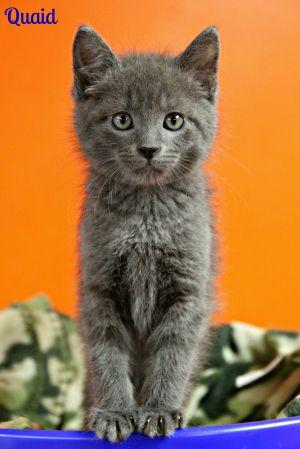rblue: (64, 18, 229, 189)
